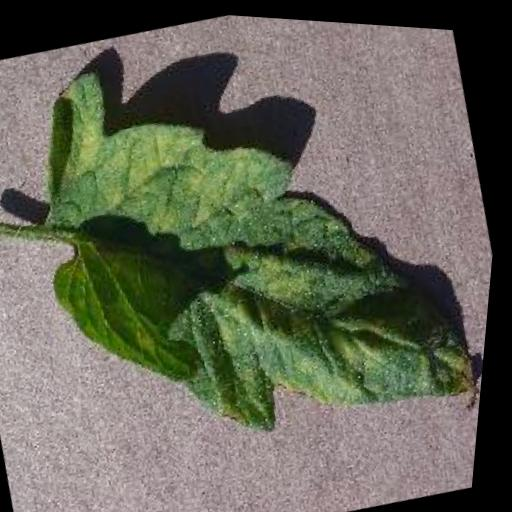Leaf Mold: (0, 1, 510, 484)
